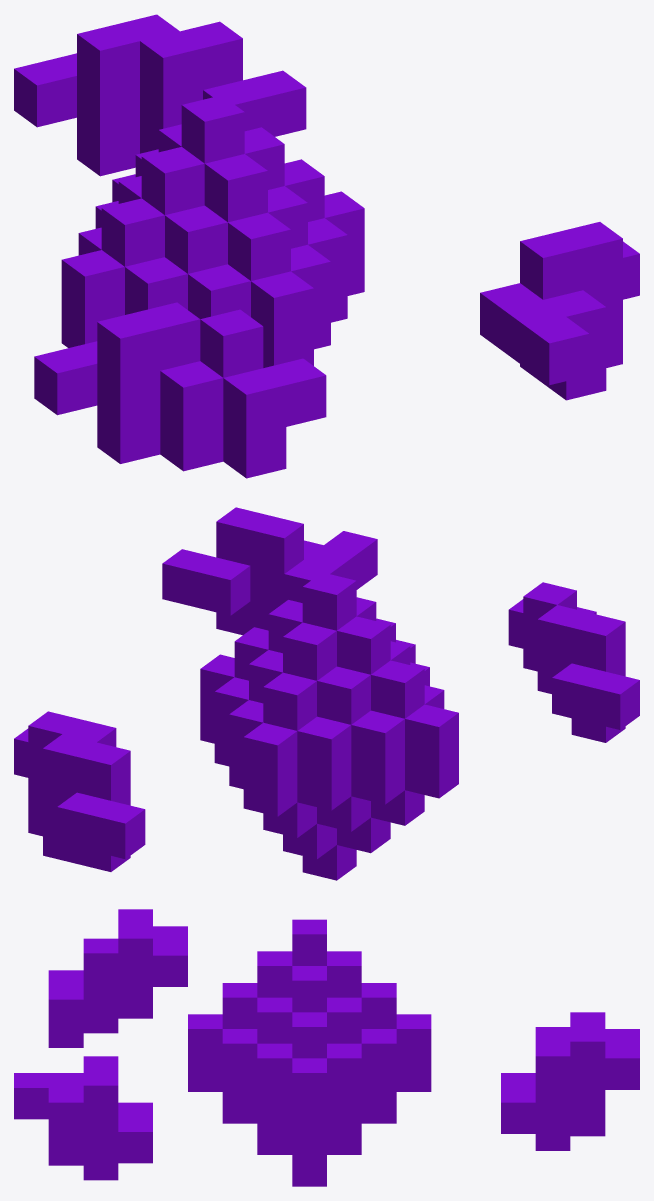
Rendered from orbs 1.gltf.
3 renders of one model, top to bottom at view 1: azimuth 30°, elevation 25°; view 2: azimuth 150°, elevation 25°; view 3: azimuth 270°, elevation 25°, orthographic. The views are drawn at different scales.
Visible parts, largest first — view 1: power; view 2: power; view 3: power.
Boxes of the visible parts, <box> form: power: <box>14,14,639,478</box>; power: <box>14,507,639,880</box>; power: <box>14,909,639,1186</box>.
Bounding box in the file's own units: 14 × 8 × 18.
1 material, 1 textured.
